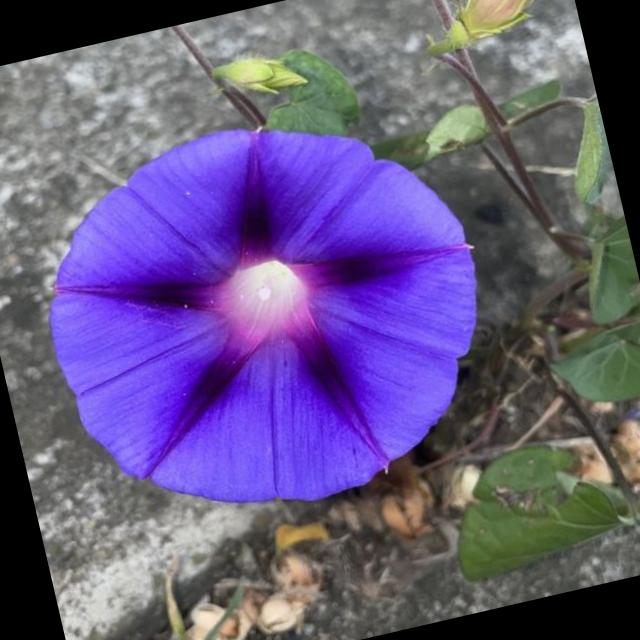ipomoea: (9, 78, 524, 554)
